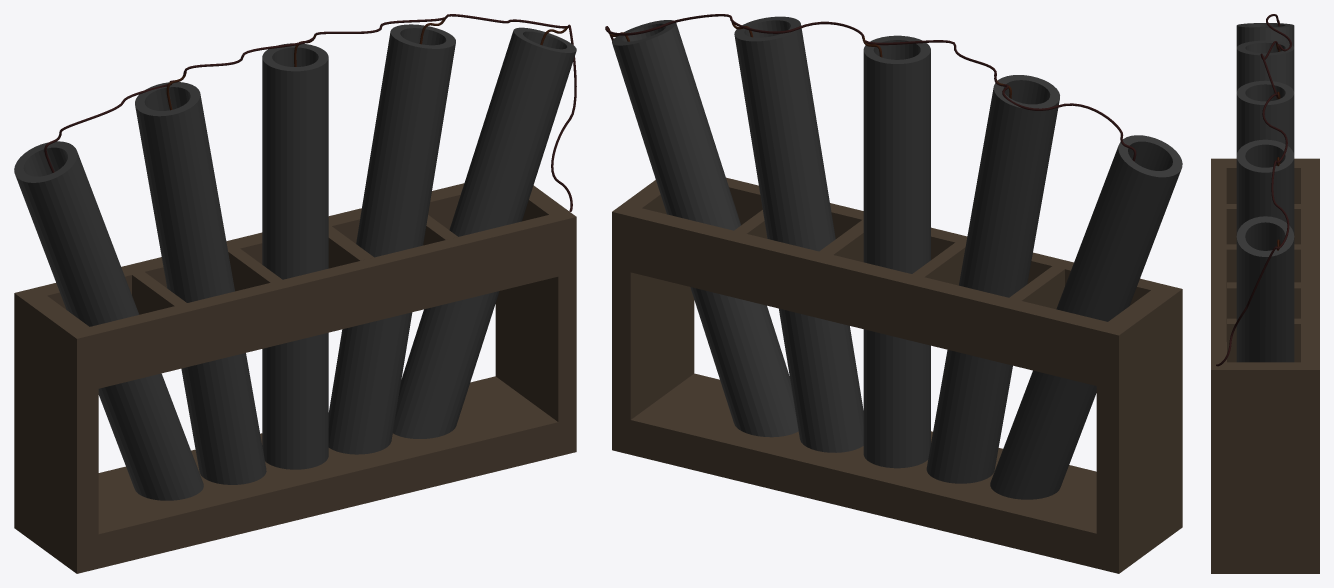
The model's file is Basic-Five-Rackv5.fbx.
3 renders of one model, left to right at view 1: azimuth 30°, elevation 25°; view 2: azimuth 150°, elevation 25°; view 3: azimuth 270°, elevation 25°, orthographic. The views are drawn at different scales.
Visible parts, largest first — view 1: Cube, Cylinder.001, Cylinder, Cylinder.003, Cylinder.002, Cylinder.004, BezierCurve.004; view 2: Cube, Cylinder.001, Cylinder, Cylinder.003, Cylinder.002, Cylinder.004, BezierCurve.004; view 3: Cube, Cylinder.003, Cylinder.001, Cylinder, Cylinder.002, BezierCurve.004, Cylinder.004.
Boxes of the visible parts, x1,y1,x2,y2 form: Cube: (14,183,576,573); Cylinder.001: (328,24,455,454); Cylinder: (262,43,328,469); Cylinder.003: (393,27,576,438); Cylinder.002: (135,82,266,484); Cylinder.004: (14,141,203,500); BezierCurve.004: (44,14,576,211); Cube: (612,177,1182,573); Cylinder.001: (734,16,863,452); Cylinder: (863,35,930,468); Cylinder.003: (612,20,798,437); Cylinder.002: (926,75,1059,483); Cylinder.004: (990,135,1182,499); BezierCurve.004: (605,14,1136,161); Cube: (1211,158,1319,573); Cylinder.003: (1236,216,1294,362); Cylinder.001: (1236,139,1294,235); Cylinder: (1236,80,1294,154); Cylinder.002: (1236,40,1294,91); BezierCurve.004: (1216,14,1291,366); Cylinder.004: (1236,23,1294,47).
Size of the model in its own units: 291 by 225 by 56.62.
